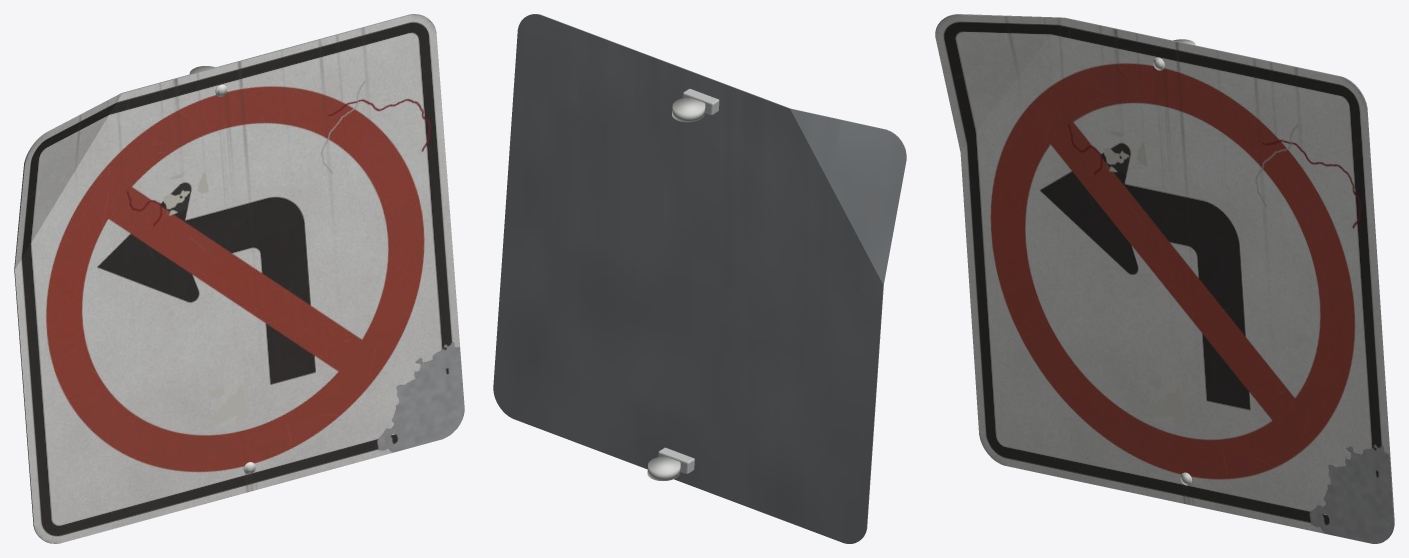
File: noLeftTurn-v1-battered.glb
3 renders of one model, left to right at view 1: azimuth 30°, elevation 25°; view 2: azimuth 150°, elevation 25°; view 3: azimuth 330°, elevation 25°, orthographic. The views are drawn at different scales.
Parts seen in each view (by area): view 1: noLeftTurn-v1-battered; view 2: noLeftTurn-v1-battered; view 3: noLeftTurn-v1-battered.
Boxes of the visible parts, x1,y1,x2,y2 form: noLeftTurn-v1-battered: (14,14,464,543); noLeftTurn-v1-battered: (493,14,906,543); noLeftTurn-v1-battered: (935,14,1394,543).
Bounding box in the file's own units: 0.805 × 0.8099 × 0.1178.
Materials: 1 (1 with a texture image).
